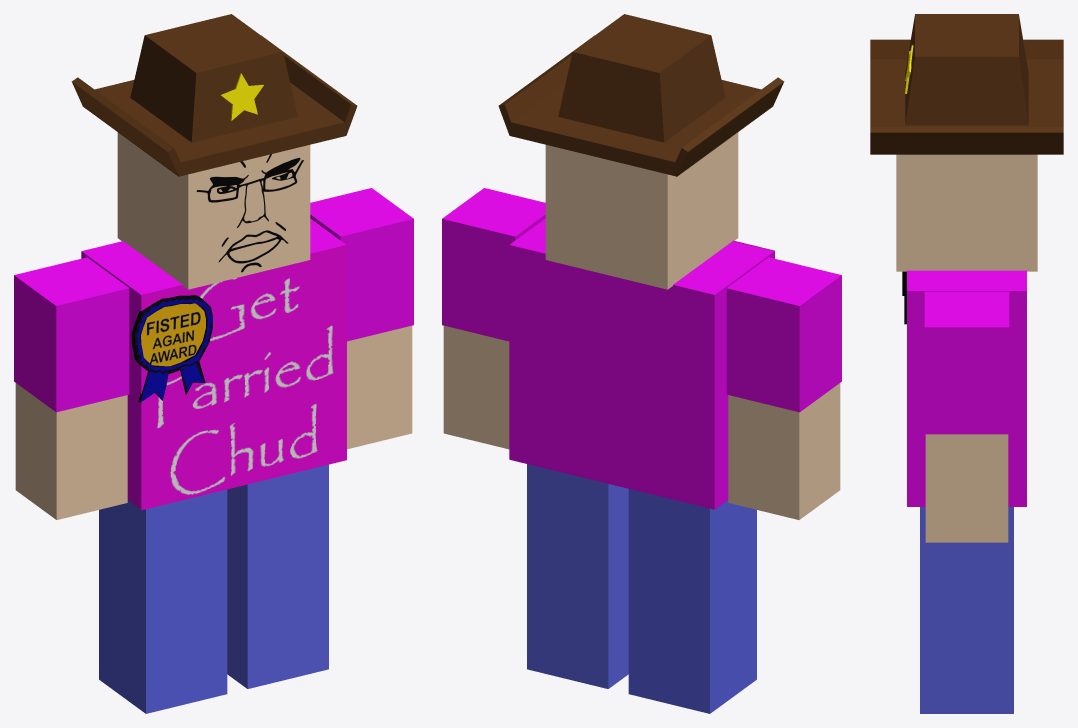
File: john_fister.glb
3 views of the same model, side by side, from view 1: azimuth 30°, elevation 25°; view 2: azimuth 150°, elevation 25°; view 3: azimuth 270°, elevation 25° (orthographic).
Parts seen in each view (by area): view 1: shirtFront, leftLegSkin, rightLegSkin, headSkin, leftArmSleeve, Cube, leftArmSkin, rightArmSleeve, Cube.001, rightArmSkin, Curve, shirtBody (+4 smaller); view 2: shirtBody, leftLegSkin, headSkin, rightLegSkin, leftArmSleeve, Cube, leftArmSkin, rightArmSleeve, Cube.001, rightArmSkin, Cube.003, Cube.002; view 3: headSkin, rightLegSkin, Cube, rightArmSleeve, shirtBody, rightArmSkin, Cube.002, Cube.001, Cube.003.
Boxes of the visible parts, <box> form: shirtFront: <box>141,245,346,510</box>; leftLegSkin: <box>99,489,227,713</box>; rightLegSkin: <box>227,464,328,688</box>; headSkin: <box>117,132,310,289</box>; leftArmSleeve: <box>14,257,129,412</box>; Cube: <box>130,14,297,142</box>; leftArmSkin: <box>15,383,127,519</box>; rightArmSleeve: <box>310,188,413,341</box>; Cube.001: <box>82,80,344,176</box>; rightArmSkin: <box>347,325,412,449</box>; Curve: <box>131,294,212,402</box>; shirtBody: <box>81,218,345,509</box>; shirtBody: <box>509,218,774,509</box>; leftLegSkin: <box>628,489,756,713</box>; headSkin: <box>545,132,738,289</box>; rightLegSkin: <box>527,464,628,688</box>; leftArmSleeve: <box>726,257,841,412</box>; Cube: <box>558,14,725,142</box>; leftArmSkin: <box>728,383,840,519</box>; rightArmSleeve: <box>442,188,545,341</box>; Cube.001: <box>511,80,773,176</box>; rightArmSkin: <box>443,325,509,449</box>; Cube.003: <box>671,77,784,176</box>; Cube.002: <box>498,35,594,135</box>; headSkin: <box>896,154,1037,271</box>; rightLegSkin: <box>920,507,1013,713</box>; Cube: <box>905,14,1028,125</box>; rightArmSleeve: <box>924,291,1009,434</box>; shirtBody: <box>907,270,1026,506</box>; rightArmSkin: <box>925,434,1008,542</box>; Cube.002: <box>870,127,1063,154</box>; Cube.001: <box>870,59,1063,126</box>; Cube.003: <box>870,39,1063,59</box>.
Bounding box in the file's own units: 1.76 × 2.97 × 0.8211.
15 materials, 3 textured.
